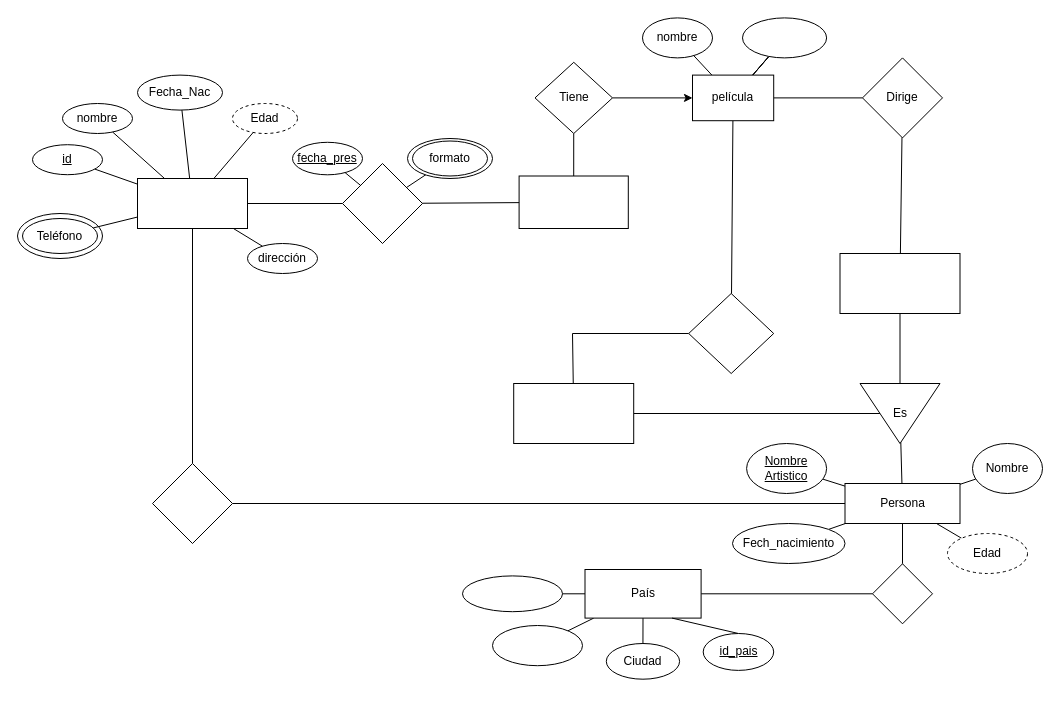
This 1060x708 diagram has some shape labels left out. Each missing label, with the centre of its shape:
"Actor" belongs at pixel 573 413.
"cliente" belongs at pixel 192 203.
"Consulta" belongs at pixel 192 503.
"Copia" belongs at pixel 573 201.
"Director" belongs at pixel 899 283.
"fecha_sal" belongs at pixel 784 37.
"Liga" belongs at pixel 902 593.
"nacionalidad" belongs at pixel 512 593.
"num_pais" belongs at pixel 537 645.
"Protagonizan" belongs at pixel 731 333.
"Renta" belongs at pixel 382 203.
